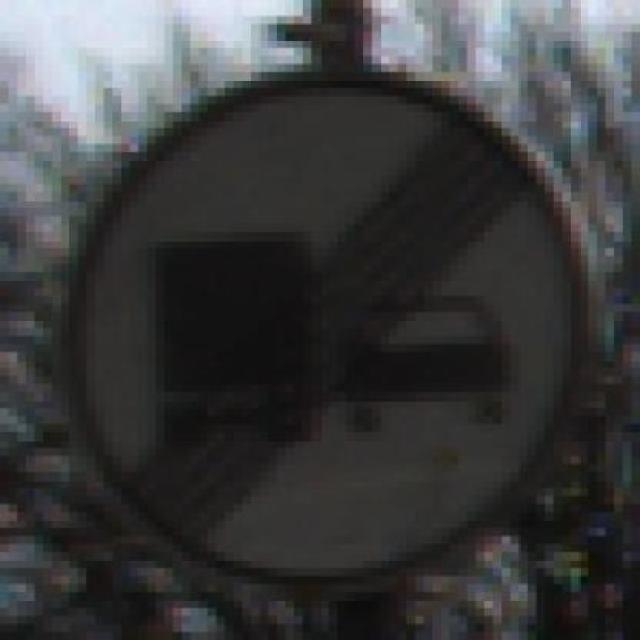Overtaking by trucks is prohibited: (18, 64, 632, 624)
